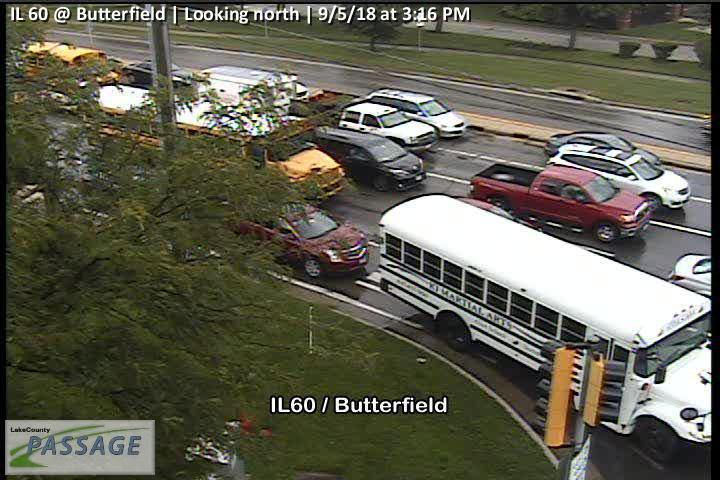Bus: (377, 193, 720, 471), (87, 83, 348, 203), (24, 41, 121, 85)
SUV: (545, 142, 691, 211), (314, 126, 424, 192), (339, 102, 440, 154), (367, 89, 468, 140)
Sedan: (232, 196, 368, 279), (541, 132, 660, 172), (124, 56, 194, 90)
Truck: (468, 163, 650, 242)
